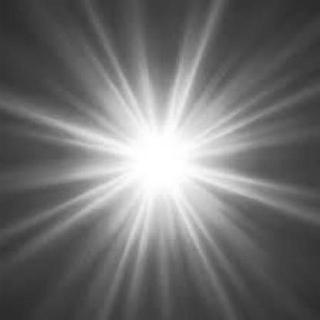other: (73, 84, 239, 236)
